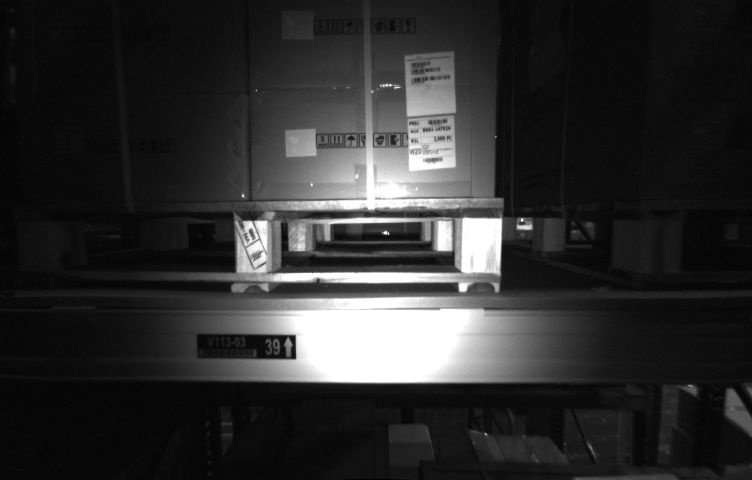True Barcode: (409, 117, 454, 171)
